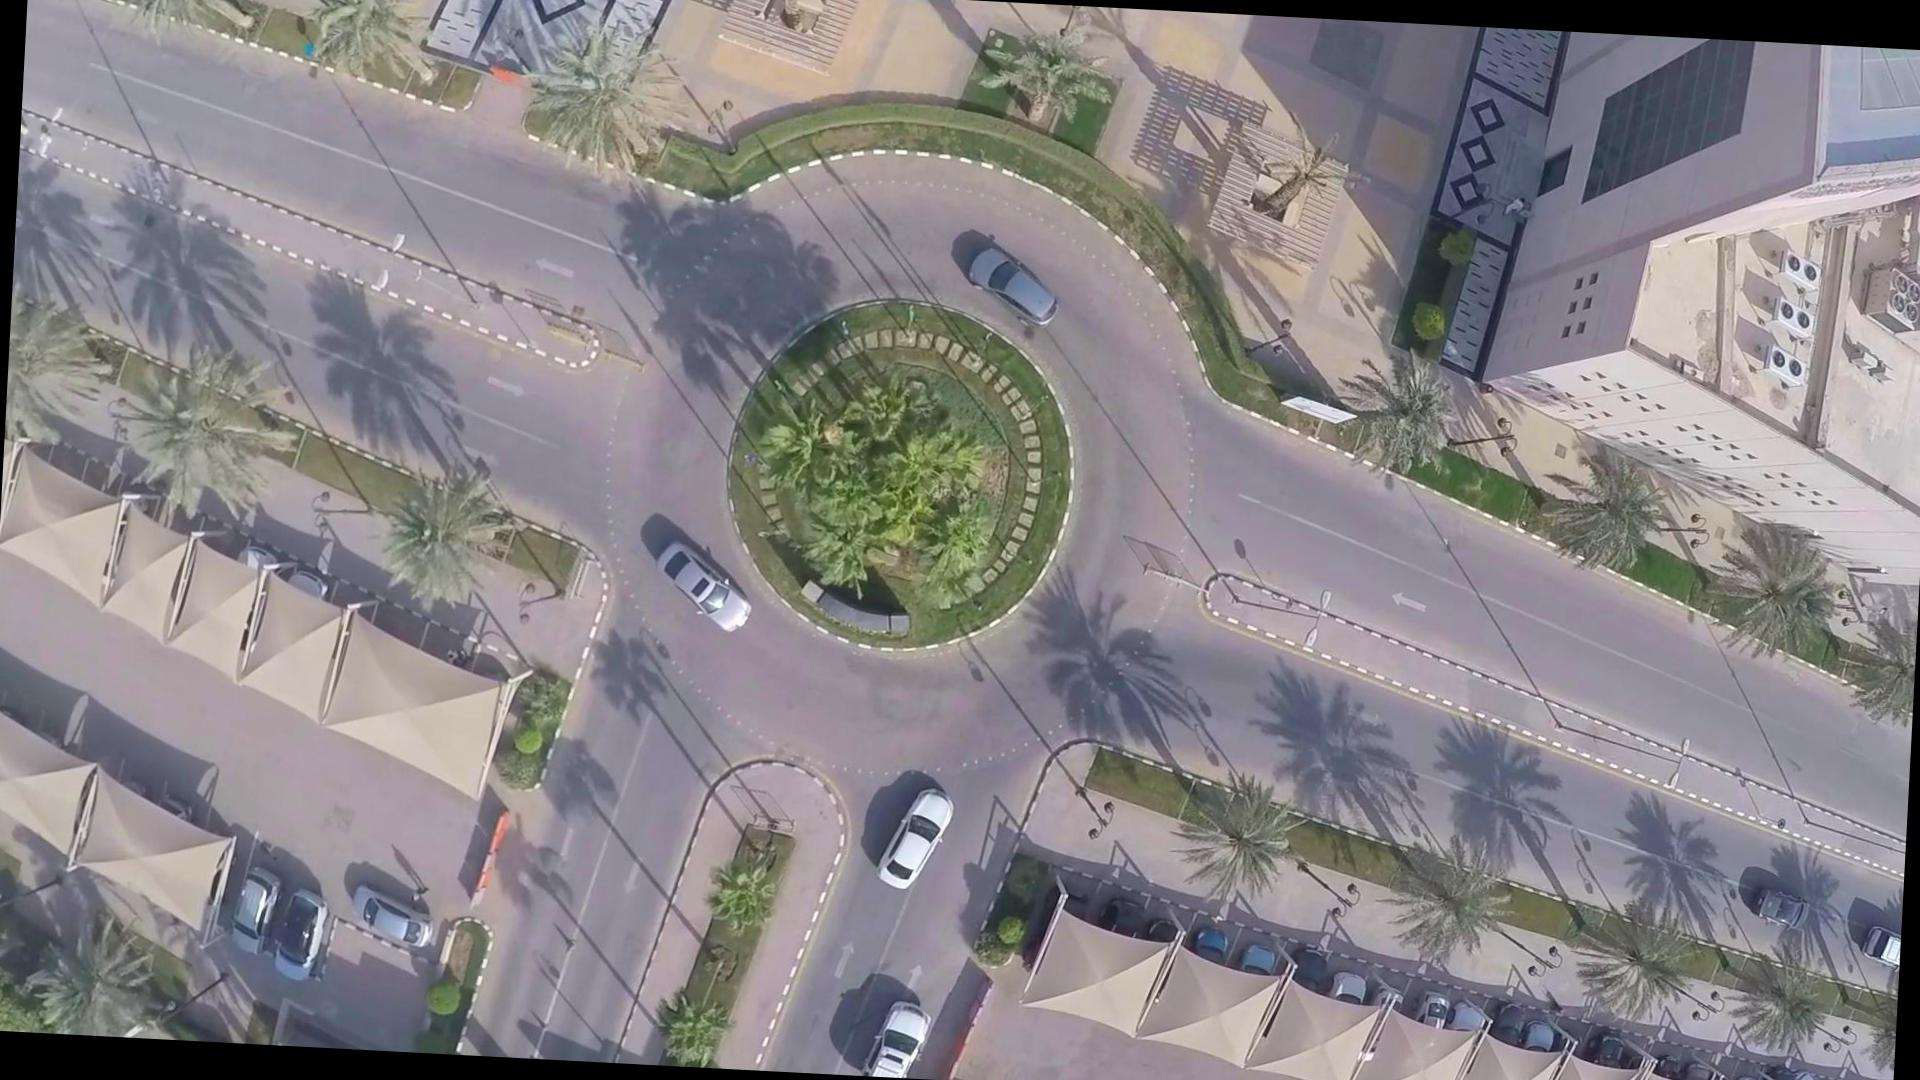vehicle: (870, 769, 964, 894), (953, 241, 1085, 324), (644, 535, 755, 627)
